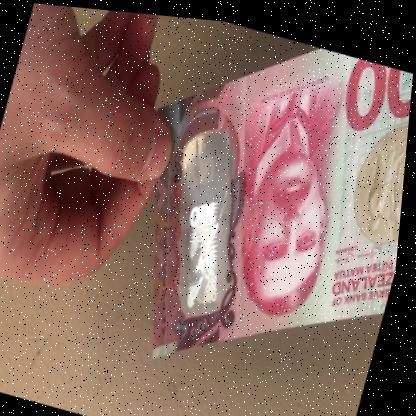100F: (146, 131, 260, 317)
